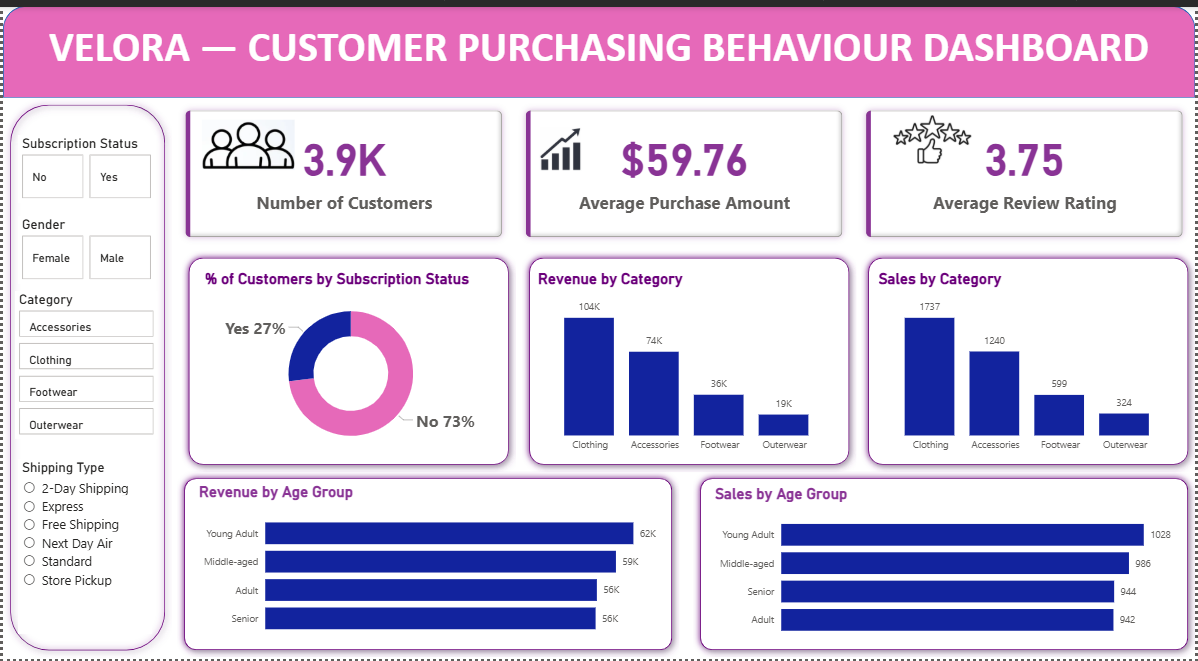

What the dashboard file says about the page in this screenshot:
{"tool":"powerbi","page":{"name":"Page 1","canvas":[1500,820],"ordinal":0},"visuals":[{"type":"cardVisual","fields":{"Data":["public customer.Number of Customers","public customer.Average Purchase Amount","public customer.Average Review Rating"]},"box":[212.9,115.3,1286.5,191.6],"z":2000},{"type":"shape","box":[218.3,585.6,631.7,234.2],"z":2500,"group":"g1"},{"type":"shape","box":[0,0,1499.4,115.3],"z":3000},{"type":"textbox","box":[0,12.4,1499.4,102.9],"z":4000},{"type":"shape","box":[225.4,307,420.5,278.6],"z":5000},{"type":"donutChart","title":"% of Customers by Subscription Status","fields":{"Category":["public customer.subscription_status"],"Y":["CountNonNull(public customer.customer_id)"]},"box":[248.4,331.8,376.2,237.8],"z":6000},{"type":"shape","box":[1078.9,307,420.5,278.6],"z":7000},{"type":"shape","box":[652.1,307,420.5,278.6],"z":8000},{"type":"clusteredColumnChart","title":"Revenue by Category","fields":{"Y":["Sum(public customer.purchase_amount)"],"Category":["public customer.category"]},"box":[667.2,331.8,385.1,237.8],"z":9000},{"type":"clusteredColumnChart","title":"Sales by Category","fields":{"Y":["CountNonNull(public customer.customer_id)"],"Category":["public customer.category"]},"box":[1096.6,331.8,385.1,237.8],"z":10000},{"type":"shape","box":[0,115.3,212.9,704.5],"z":11000},{"type":"advancedSlicerVisual","fields":{"Values":["public customer.subscription_status"]},"box":[19.5,161.5,173.9,85.2],"z":12000},{"type":"advancedSlicerVisual","fields":{"Values":["public customer.gender"]},"box":[19.5,264.4,173.9,85.2],"z":13000},{"type":"advancedSlicerVisual","fields":{"Values":["public customer.category"]},"box":[14.2,358.4,179.2,186.3],"z":14000},{"type":"listSlicer","fields":{"Values":["public customer.shipping_type"]},"box":[19.5,569.6,168.6,220],"z":15000},{"type":"shape","box":[867.7,585.6,631.7,234.2],"z":16000},{"type":"clusteredBarChart","title":"Sales by Age Group","fields":{"Y":["CountNonNull(public customer.customer_id)"],"Category":["public customer.age_group"]},"box":[890.8,601.5,585.6,204.1],"z":17000},{"type":"clusteredBarChart","title":"Revenue by Age Group","fields":{"Y":["Sum(public customer.purchase_amount)"],"Category":["public customer.age_group"]},"box":[241.4,601.6,585.6,204.1],"z":17500,"group":"g1"},{"type":"group","id":"g1","title":"Group 1","box":[218.3,585.6,631.7,234.2],"z":17501},{"type":"image","box":[241.5,137.7,133.9,73.6],"z":17502},{"type":"image","box":[624.4,147.2,152.8,64.1],"z":17503},{"type":"image","box":[1096.1,132.1,145.3,71.7],"z":17504}]}

Visuals, with their boxes in screenshot pixels (x1, y1, x2, y2), scaled from the page's 1500x820 canvas onto the 1198x661 screenshot:
cardVisual - public customer.Number of Customers x public customer.Average Purchase Amount: bbox(170, 93, 1197, 247)
shape: bbox(174, 472, 679, 660)
shape: bbox(0, 0, 1197, 93)
textbox: bbox(0, 10, 1197, 93)
shape: bbox(180, 247, 516, 472)
"% of Customers by Subscription Status" donutChart: bbox(198, 267, 499, 459)
shape: bbox(862, 247, 1197, 472)
shape: bbox(521, 247, 857, 472)
"Revenue by Category" clusteredColumnChart: bbox(533, 267, 840, 459)
"Sales by Category" clusteredColumnChart: bbox(876, 267, 1183, 459)
shape: bbox(0, 93, 170, 660)
advancedSlicerVisual - public customer.subscription_status: bbox(16, 130, 154, 199)
advancedSlicerVisual - public customer.gender: bbox(16, 213, 154, 282)
advancedSlicerVisual - public customer.category: bbox(11, 289, 154, 439)
listSlicer - public customer.shipping_type: bbox(16, 459, 150, 636)
shape: bbox(693, 472, 1197, 660)
"Sales by Age Group" clusteredBarChart: bbox(711, 485, 1179, 649)
"Revenue by Age Group" clusteredBarChart: bbox(193, 485, 660, 649)
"Group 1" group: bbox(174, 472, 679, 660)
image: bbox(193, 111, 300, 170)
image: bbox(499, 119, 621, 170)
image: bbox(875, 106, 991, 164)
